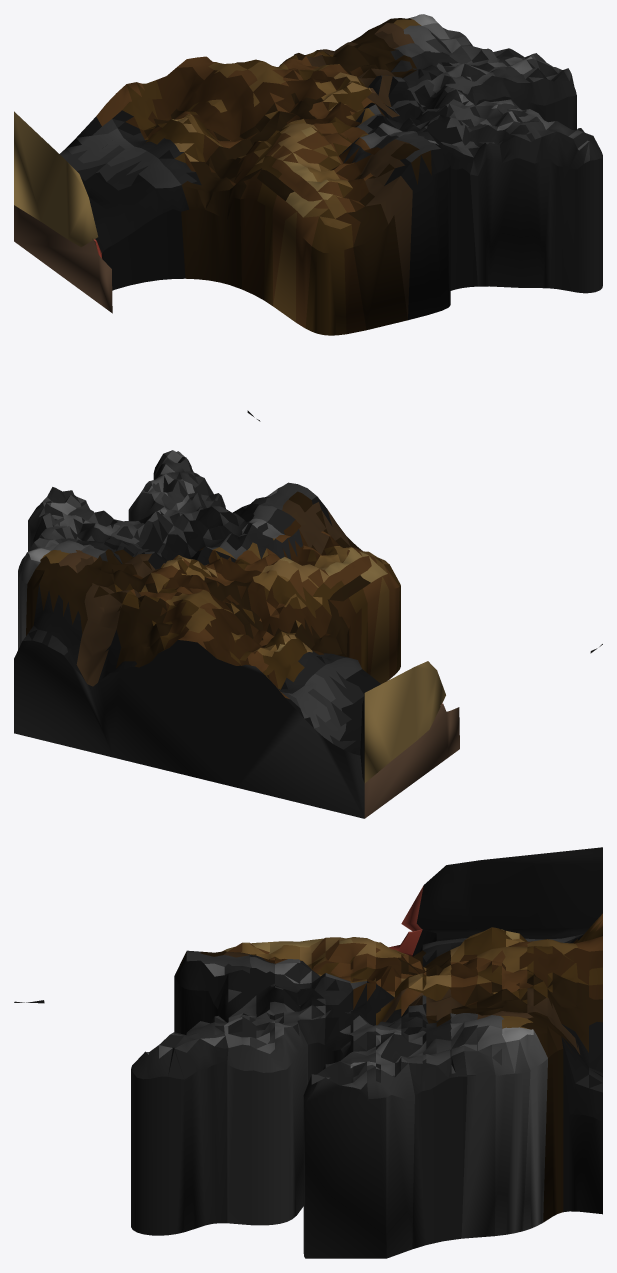
File: tusk_boss_244.glb
3 views of the same model, one above another, from view 1: azimuth 30°, elevation 25°; view 2: azimuth 150°, elevation 25°; view 3: azimuth 270°, elevation 25° (orthographic). The views are drawn at different scales.
Visible parts, largest first — view 1: tusk_boss_244_plates; view 2: tusk_boss_244_plates; view 3: tusk_boss_244_plates.
Part boxes in pixels (x1=…): tusk_boss_244_plates: x1=14, y1=14, x2=602, y2=421; tusk_boss_244_plates: x1=14, y1=450, x2=602, y2=818; tusk_boss_244_plates: x1=14, y1=847, x2=602, y2=1258.
Size of the model in its own units: 24 by 8.44 by 23.35.
